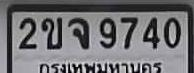0: (163, 16, 180, 47)
2: (18, 16, 36, 48)
4: (142, 16, 158, 48)
7: (120, 16, 137, 48)
9: (99, 17, 115, 48)
A02: (41, 16, 61, 49)
A08: (67, 17, 88, 49)
BKK: (38, 62, 164, 73)
